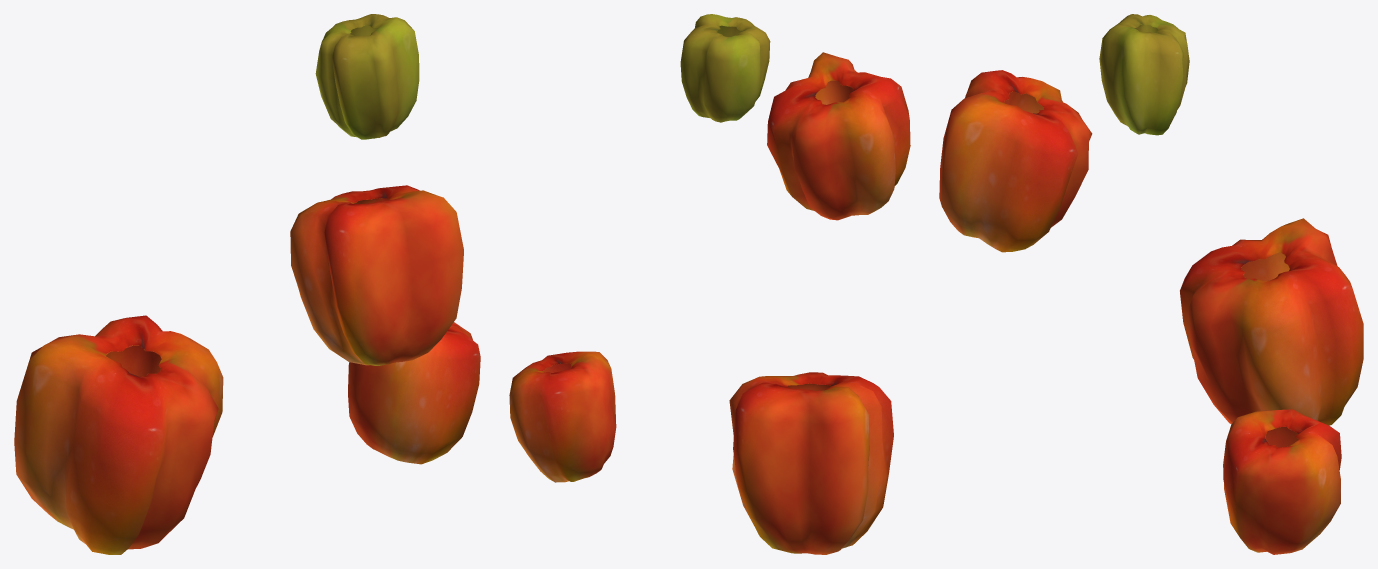
Rendered from VG07_4_fruitonly.dae.
3 views of the same model, side by side, from view 1: azimuth 30°, elevation 25°; view 2: azimuth 150°, elevation 25°; view 3: azimuth 270°, elevation 25° (orthographic). The views are drawn at different scales.
Visible parts, largest first — view 1: VG07_025; view 2: VG07_025; view 3: VG07_025.
Boxes of the visible parts, x1,y1,x2,y2 form: VG07_025: (14, 14, 480, 554); VG07_025: (509, 14, 910, 554); VG07_025: (939, 14, 1363, 554).
Bounding box in the file's own units: 0.1992 × 0.1847 × 0.2346.
2 materials, 2 textured.
